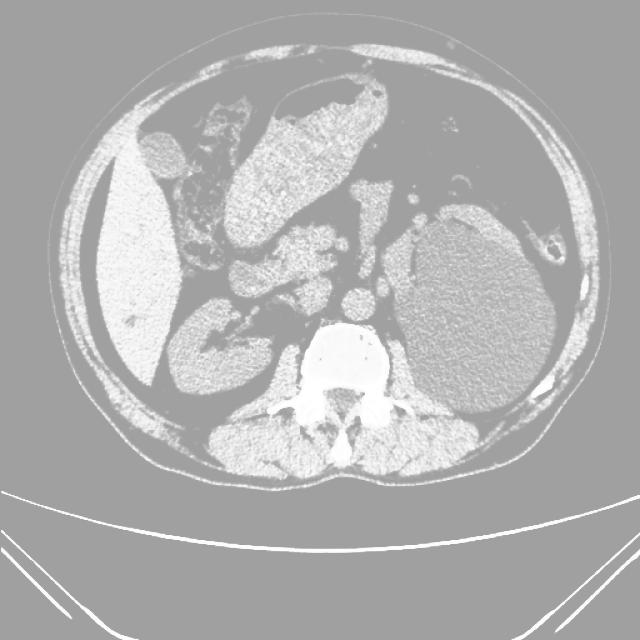cysts: (53, 35, 604, 489)
